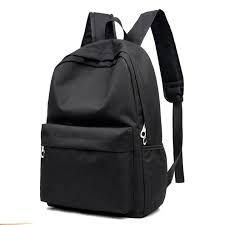bag: (38, 3, 194, 222)
